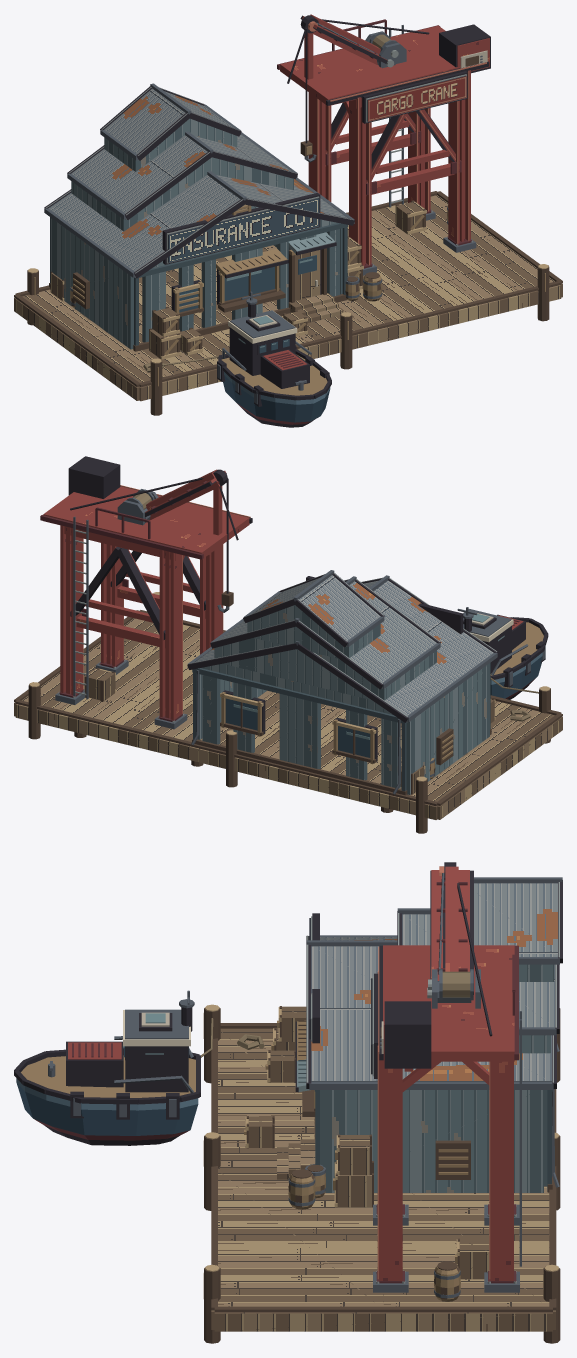
The model's file is insurance_rebuild_r2.glb.
3 renders of one model, top to bottom at view 1: azimuth 30°, elevation 25°; view 2: azimuth 150°, elevation 25°; view 3: azimuth 270°, elevation 25°, orthographic. The views are drawn at different scales.
Parts seen in each view (by area): view 1: INS_OfficeGeometry, INS_CraneGeometry, INS_DockGeometry, INS_RoofGeometry, INS_TugGeometry, INS_PropsGeometry; view 2: INS_OfficeGeometry, INS_CraneGeometry, INS_DockGeometry, INS_RoofGeometry, INS_TugGeometry, INS_PropsGeometry; view 3: INS_DockGeometry, INS_CraneGeometry, INS_RoofGeometry, INS_OfficeGeometry, INS_TugGeometry, INS_PropsGeometry.
Part boxes in pixels (<box>): INS_OfficeGeometry: <box>49,118,348,351</box>; INS_CraneGeometry: <box>277,14,490,275</box>; INS_DockGeometry: <box>14,191,562,415</box>; INS_RoofGeometry: <box>44,83,354,278</box>; INS_TugGeometry: <box>162,291,331,427</box>; INS_PropsGeometry: <box>50,200,448,372</box>; INS_OfficeGeometry: <box>191,576,491,795</box>; INS_CraneGeometry: <box>40,456,252,729</box>; INS_DockGeometry: <box>14,592,562,833</box>; INS_RoofGeometry: <box>187,570,497,722</box>; INS_TugGeometry: <box>457,607,548,699</box>; INS_PropsGeometry: <box>84,667,530,794</box>; INS_DockGeometry: <box>203,1004,560,1343</box>; INS_CraneGeometry: <box>371,862,521,1292</box>; INS_RoofGeometry: <box>306,877,562,1089</box>; INS_OfficeGeometry: <box>277,913,559,1192</box>; INS_TugGeometry: <box>14,990,213,1145</box>; INS_PropsGeometry: <box>237,1006,489,1301</box>.
Size of the model in its own units: 14.59 by 9.01 by 11.82.
20 materials, 2 textured.
